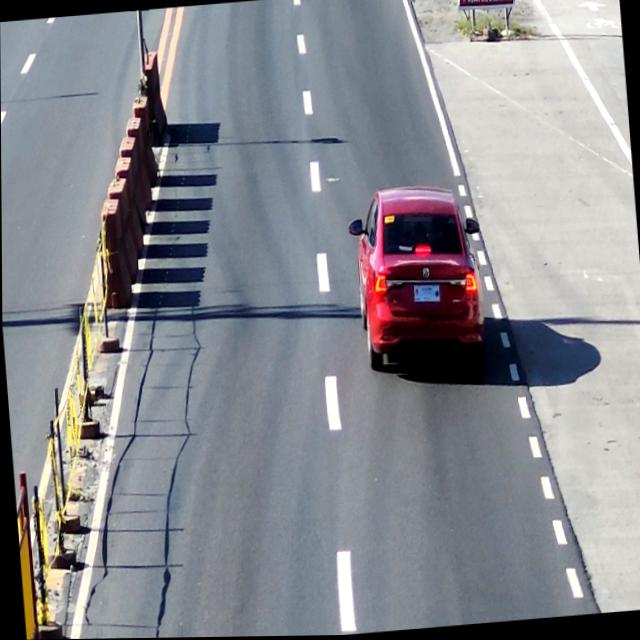Car: (343, 177, 496, 381)
License-Plate: (409, 279, 443, 311)
